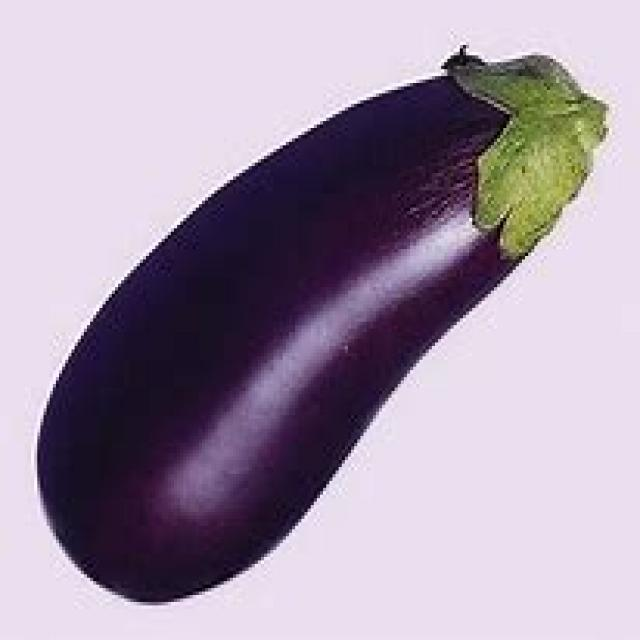eggplant: (29, 45, 608, 614)
